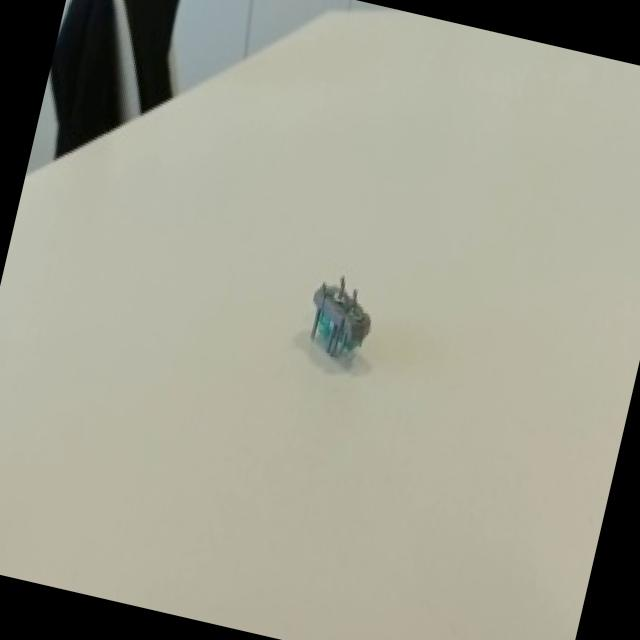5_NanoBug_GrisClaro: (263, 241, 407, 395)
